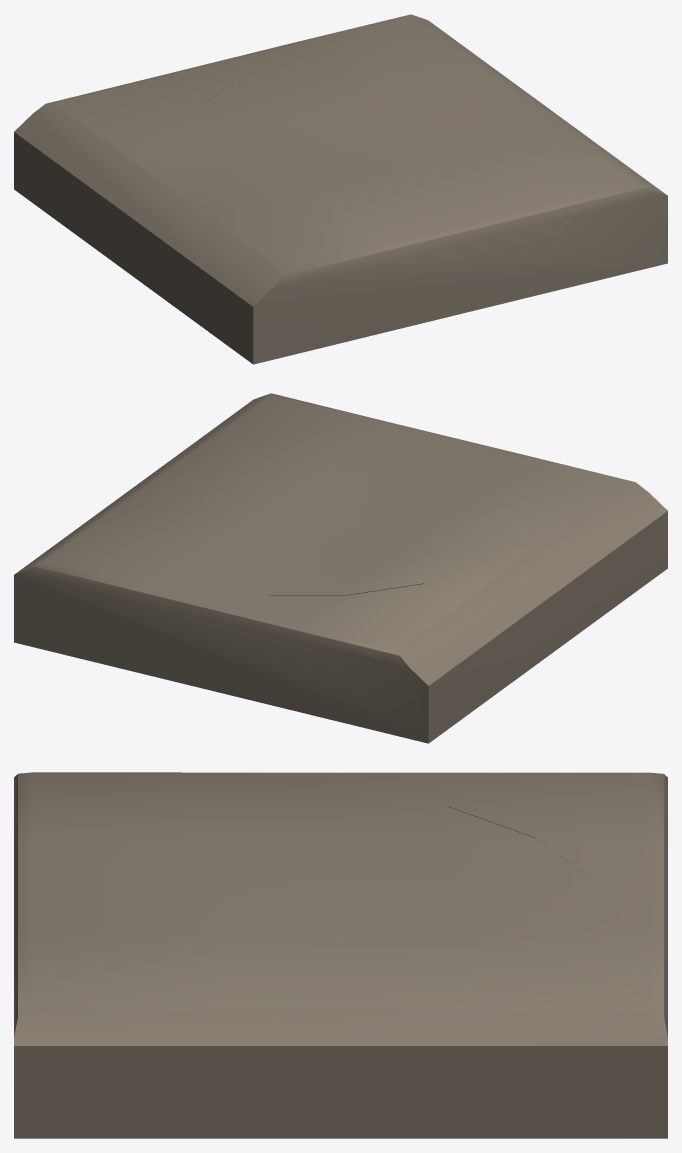
File: ruins-pc-cell.glb
The picture shows the model from 3 angles, top to bottom: view 1: azimuth 30°, elevation 25°; view 2: azimuth 150°, elevation 25°; view 3: azimuth 270°, elevation 25°; orthographic projection. The views are drawn at different scales.
Parts seen in each view (by area): view 1: 0_ruins_pc_cell; view 2: 0_ruins_pc_cell; view 3: 0_ruins_pc_cell.
Part boxes in pixels (x1,y1,x2,y2): 0_ruins_pc_cell: [14, 14, 667, 364]; 0_ruins_pc_cell: [14, 393, 667, 743]; 0_ruins_pc_cell: [14, 772, 667, 1138].
Bounding box in the file's own units: 0.78 × 0.149 × 0.78.
